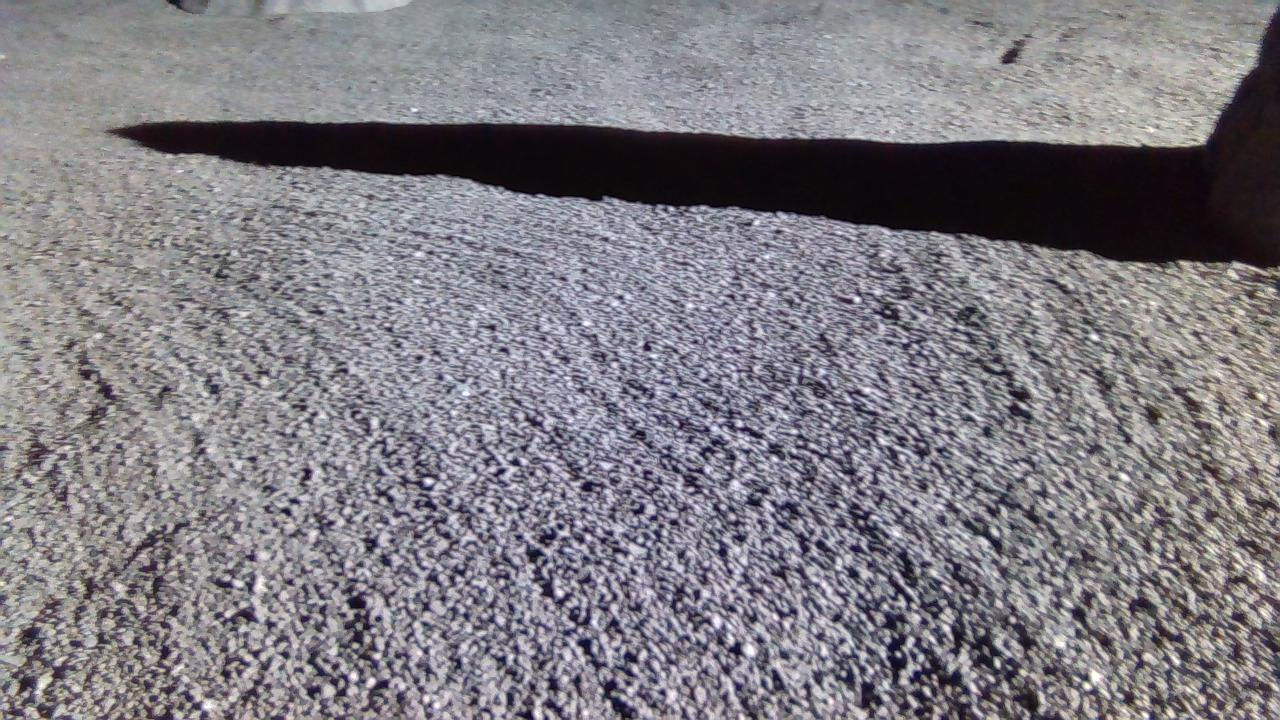rock: (1208, 10, 1280, 262), (170, 0, 410, 15)
